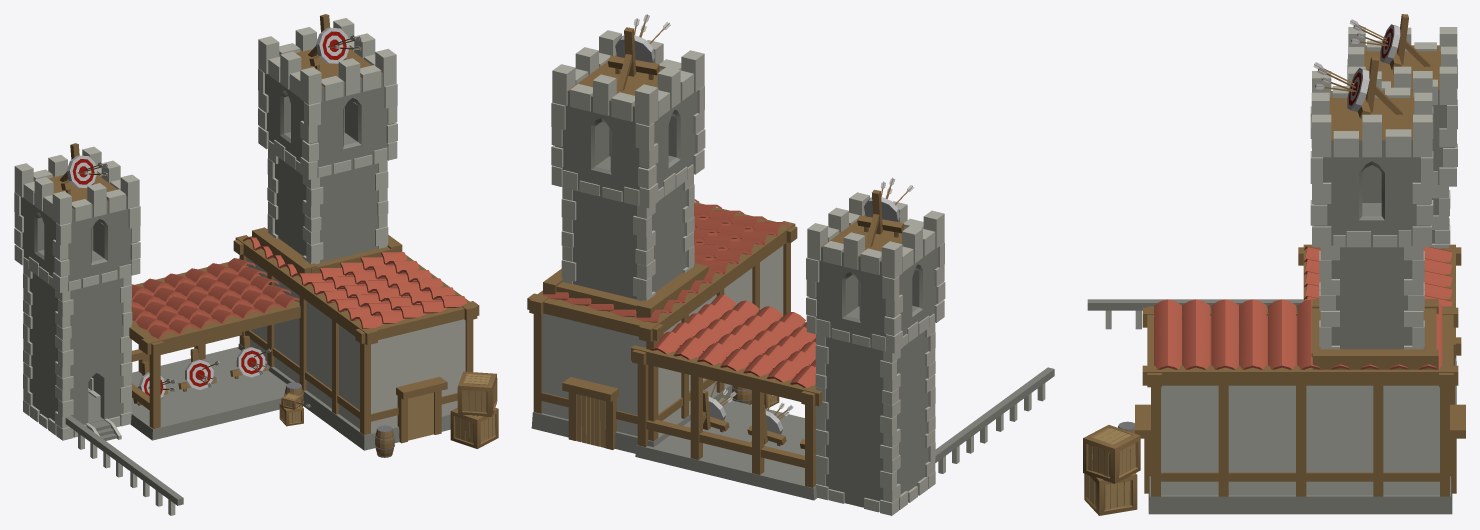
File: Archery Towers-IA5qOjIAiT.glb
3 renders of one model, left to right at view 1: azimuth 30°, elevation 25°; view 2: azimuth 150°, elevation 25°; view 3: azimuth 270°, elevation 25°, orthographic. The views are drawn at different scales.
Parts seen in each view (by area): view 1: Archery_SecondAge_Level3; view 2: Archery_SecondAge_Level3; view 3: Archery_SecondAge_Level3.
Part boxes in pixels (x1,y1,x2,y2): Archery_SecondAge_Level3: (14,14,498,515); Archery_SecondAge_Level3: (527,14,1054,515); Archery_SecondAge_Level3: (1083,14,1465,515).
Bounding box in the file's own units: 1.95 × 1.95 × 1.59.
